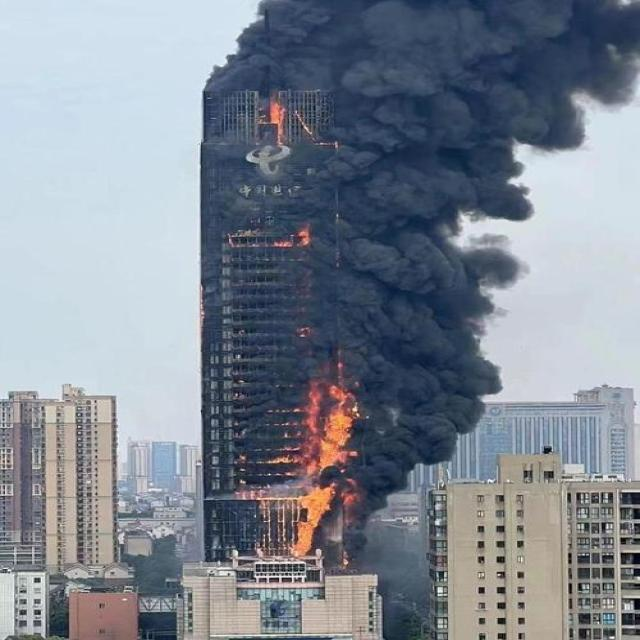Fire: (286, 381, 366, 559)
Smoke: (342, 0, 639, 375), (365, 374, 499, 502), (202, 0, 340, 88)
